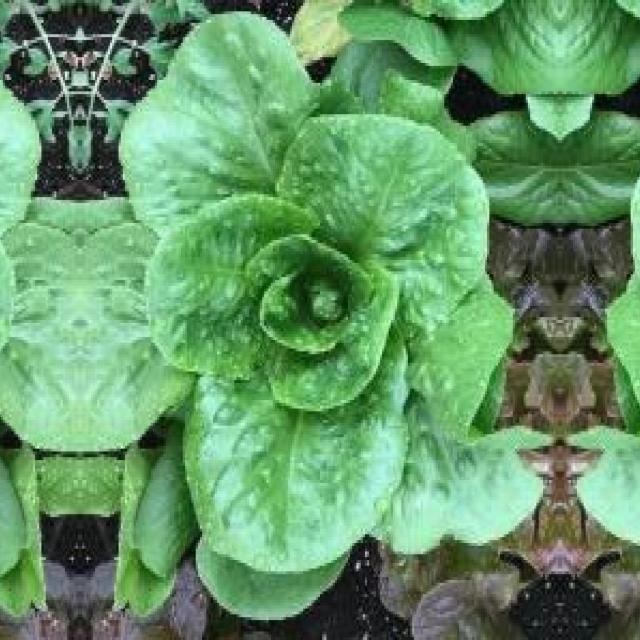healthy: (83, 23, 504, 623), (0, 23, 76, 623), (615, 23, 640, 623)
